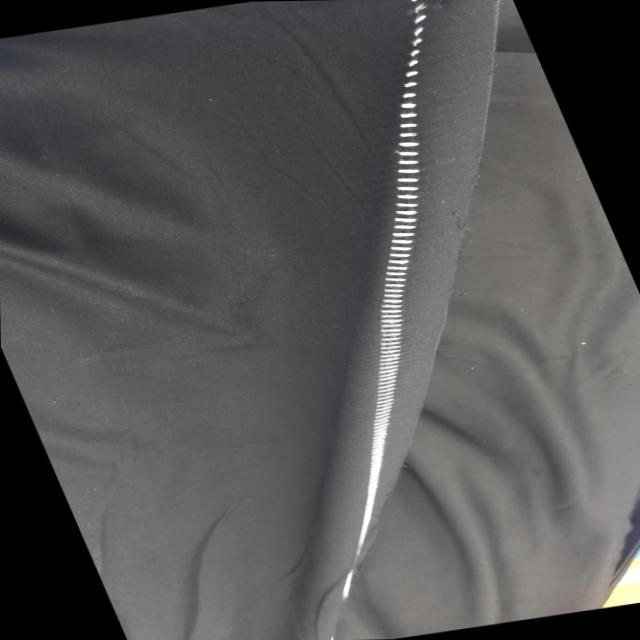gray stitch: (244, 0, 551, 290), (290, 279, 496, 499), (254, 495, 434, 640)
